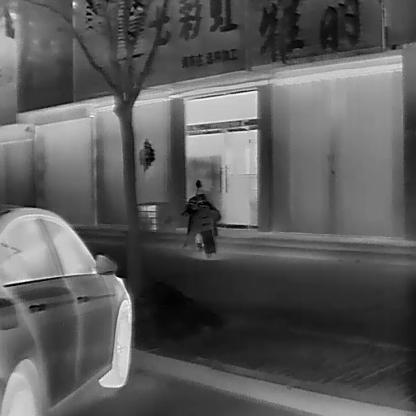car: (1, 201, 132, 415)
